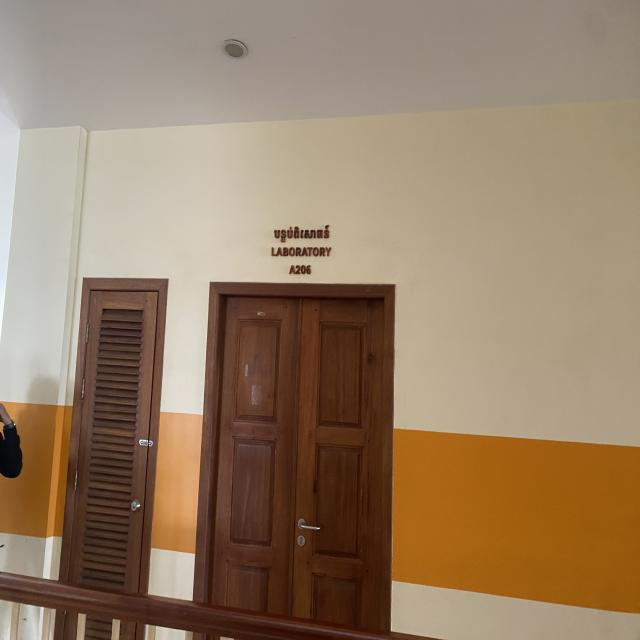Yolov11kh: (272, 223, 333, 243), (295, 263, 312, 276)
